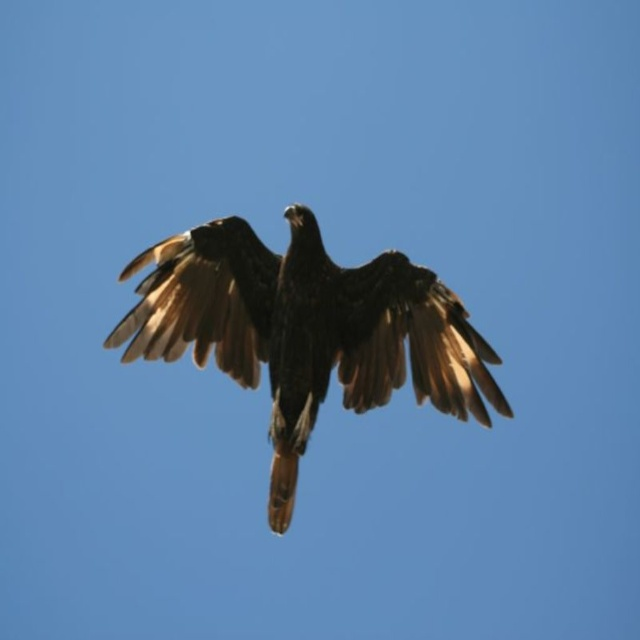Eagle: (103, 203, 514, 537)
